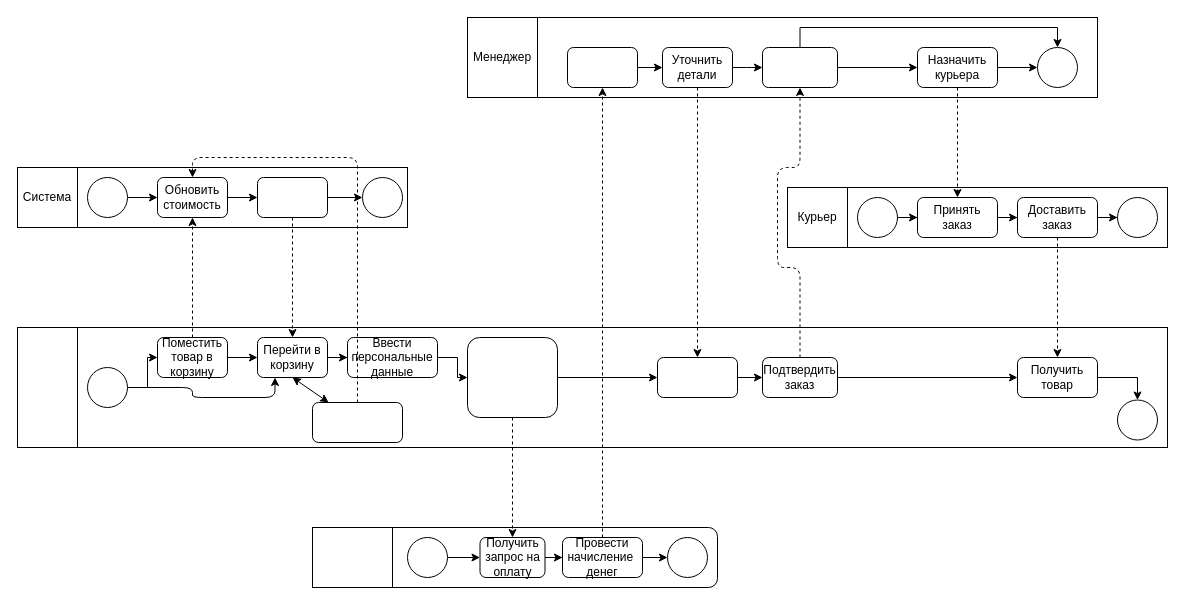
Image size: 1185x605. Some labels were removed from this diagram. The centre of each missing label's shape, as x and y in pixels:
Выставить счет: the point at 292,197
Клиент: the point at 47,387
Ответить на звонок(email): the point at 697,377
Платежная система: the point at 352,557
Получение данных: the point at 602,67
Поставить заказ на выполнение: the point at 800,67
Провести безналичную оплату и отправить заказ: the point at 512,377
Удалить из корзины: the point at 357,422
